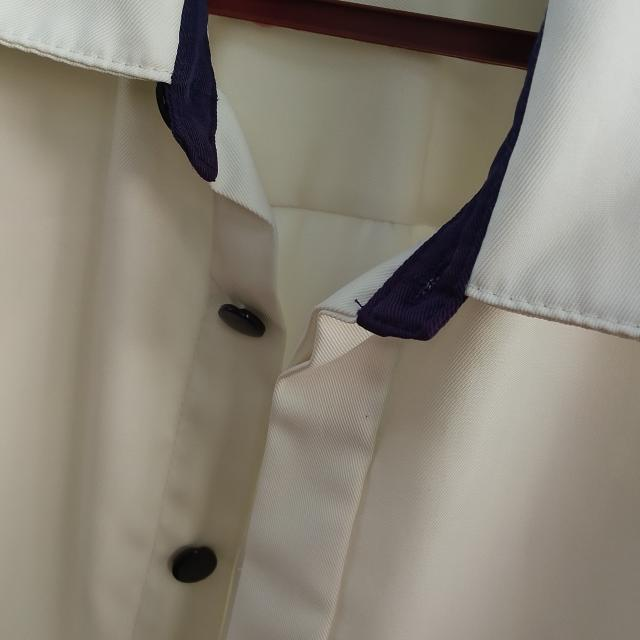education_male_uniform: (8, 0, 640, 534)
